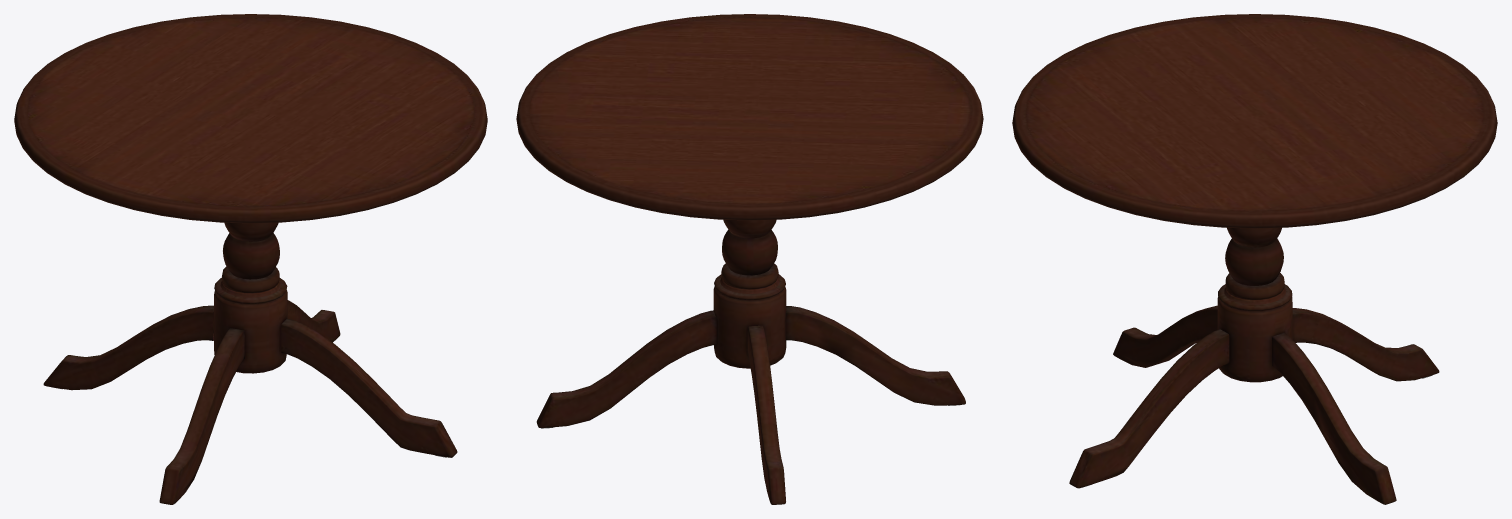
File: round_wooden_table_01.glb
The picture shows the model from 3 angles, left to right: view 1: azimuth 30°, elevation 25°; view 2: azimuth 150°, elevation 25°; view 3: azimuth 270°, elevation 25°; orthographic projection. The views are drawn at different scales.
Visible parts, largest first — view 1: round_wooden_table_01; view 2: round_wooden_table_01; view 3: round_wooden_table_01.
Boxes of the visible parts, x1=… form: round_wooden_table_01: x1=14, y1=14, x2=487, y2=504; round_wooden_table_01: x1=516, y1=14, x2=983, y2=504; round_wooden_table_01: x1=1012, y1=14, x2=1497, y2=504.
Size of the model in its own units: 1.4 by 1.01 by 1.4.
Materials: 1 (1 with a texture image).
